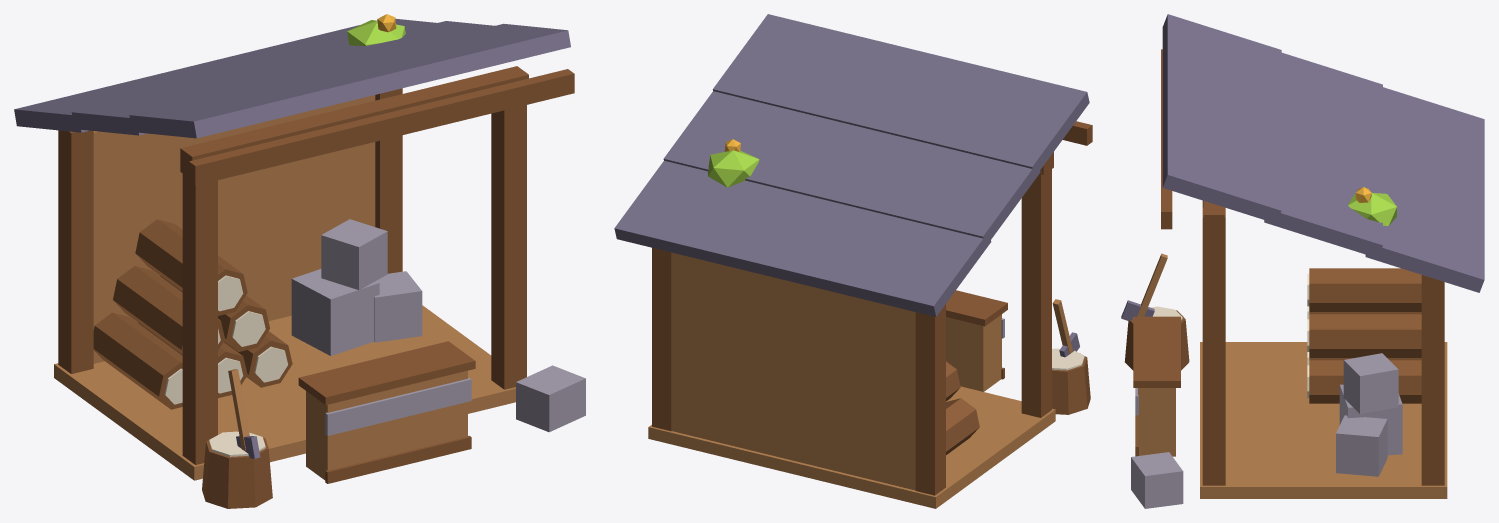
The model's file is shop_timber.glb.
3 renders of one model, left to right at view 1: azimuth 30°, elevation 25°; view 2: azimuth 150°, elevation 25°; view 3: azimuth 270°, elevation 25°, orthographic. The views are drawn at different scales.
Visible parts, largest first — view 1: shop_timber, counter; view 2: shop_timber, counter; view 3: shop_timber, counter.
Part boxes in pixels (x1,y1,x2,y2): shop_timber: (14,14,585,508); counter: (298,341,475,483); shop_timber: (614,14,1092,508); counter: (946,290,1007,391); shop_timber: (1121,14,1484,508); counter: (1133,316,1180,456).
Size of the model in its own units: 4.08 by 3.85 by 3.82.
